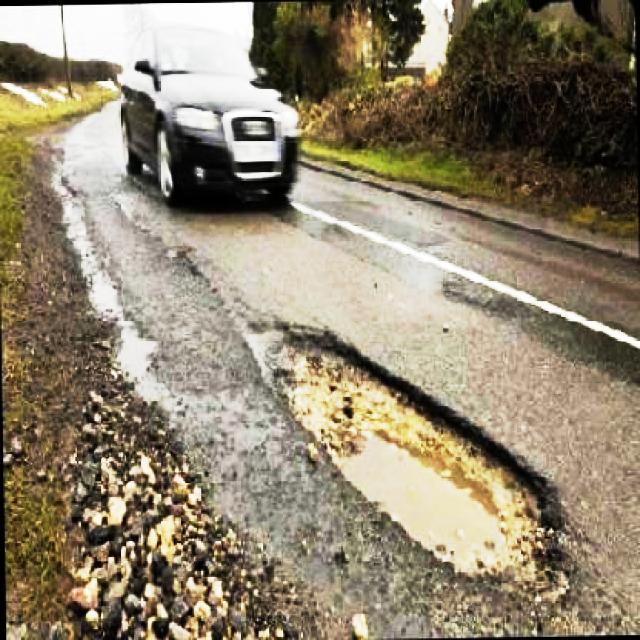pothole: (240, 304, 575, 598)
